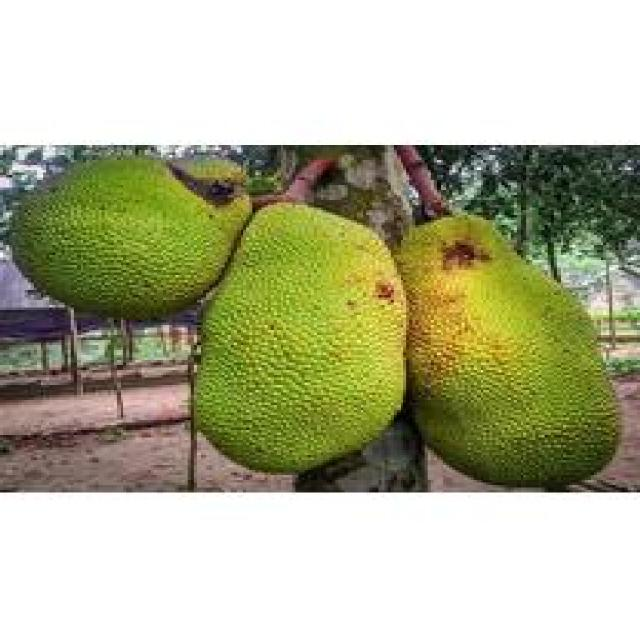Fruit: (176, 190, 422, 482), (390, 205, 628, 490), (0, 145, 268, 335)
